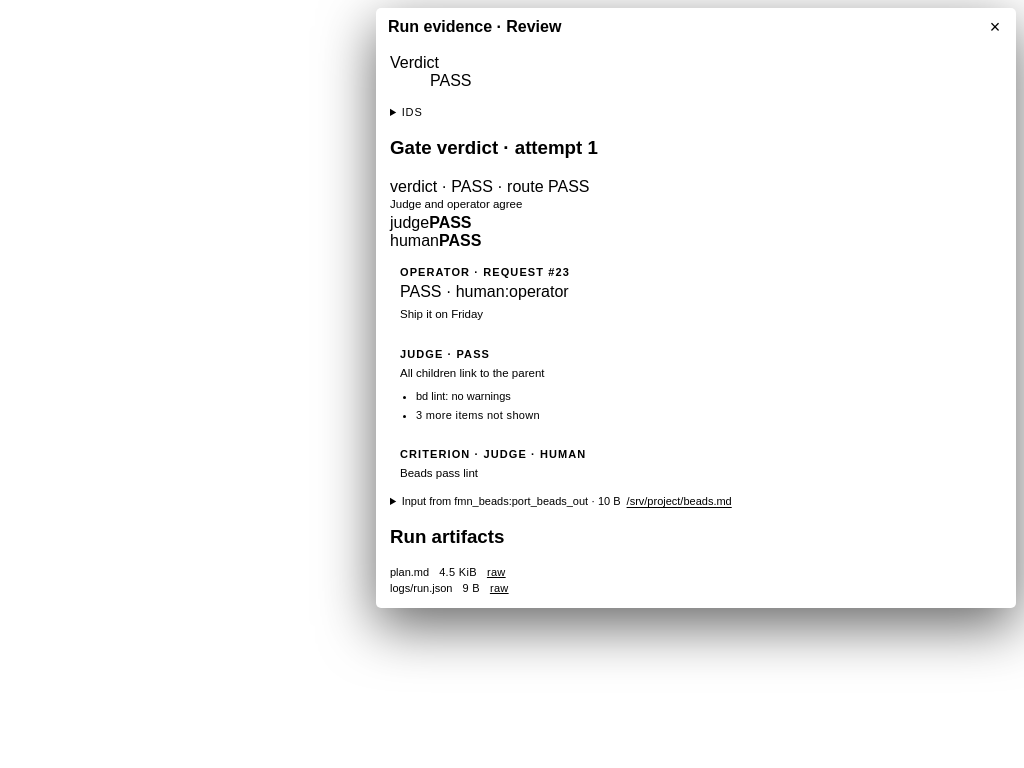
Test case: RunEvidence › opens a ref outside the artifact directory in a file window by its absolute path
The width and height of the screenshot is (1024, 768).
(page scrolled)
Step 1. Click the button "/srv/project/beads.md" → click(679, 501), box [627, 495, 732, 507]
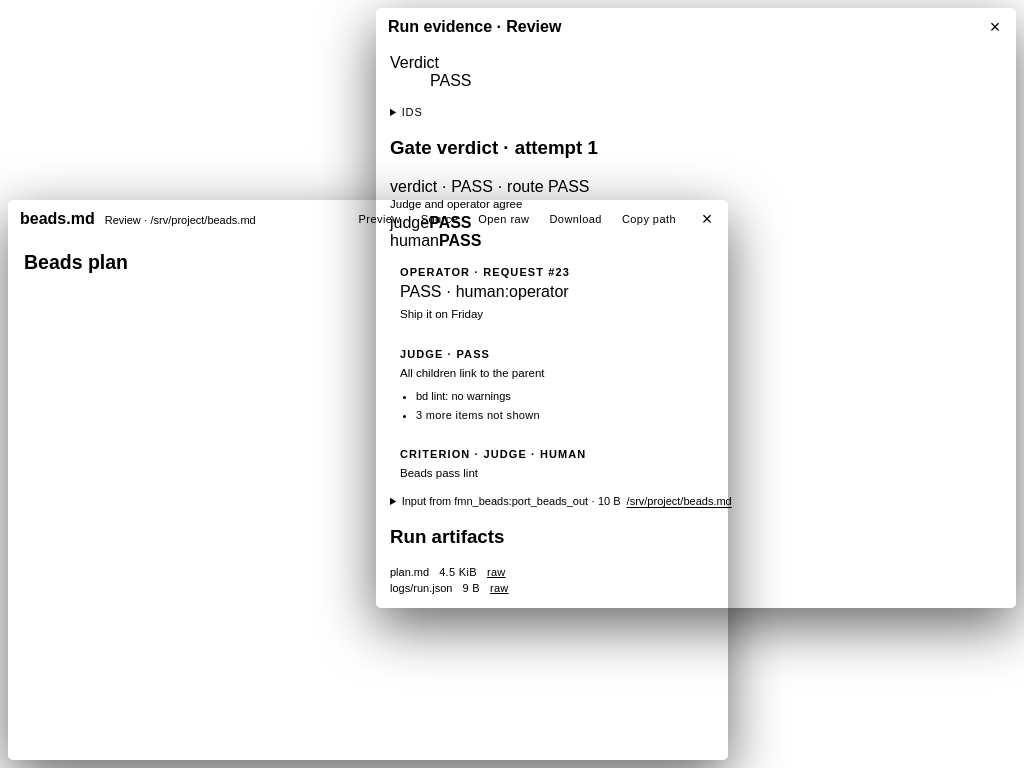
expect the heading "Beads plan" is shown: met, box [24, 251, 128, 273]
expect the dialog named "file beads.md" shows "/srv/project/beads.md": met, box [105, 214, 256, 226]
